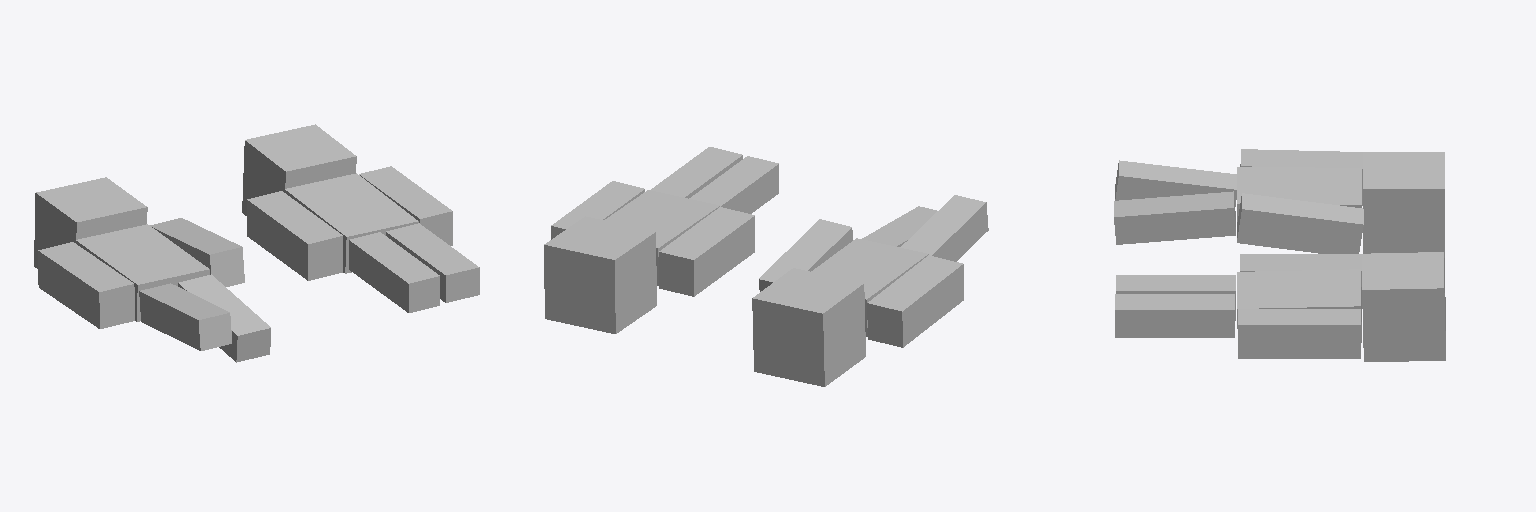
Rendered from steve_000005.obj.
3 renders of one model, left to right at view 1: azimuth 30°, elevation 25°; view 2: azimuth 150°, elevation 25°; view 3: azimuth 270°, elevation 25°, orthographic.
Parts seen in each view (by area): view 1: Cube.001_Cube.002, Cube_Cube.001; view 2: Cube_Cube.001, Cube.001_Cube.002; view 3: Cube.001_Cube.002, Cube_Cube.001.
Part boxes in pixels (left/top/right/bottom): Cube.001_Cube.002: left=242, top=124, right=479, bottom=312; Cube_Cube.001: left=34, top=177, right=270, bottom=362; Cube_Cube.001: left=752, top=195, right=988, bottom=386; Cube.001_Cube.002: left=544, top=147, right=778, bottom=333; Cube.001_Cube.002: left=1115, top=252, right=1445, bottom=361; Cube_Cube.001: left=1114, top=149, right=1444, bottom=257.
Size of the model in its own units: 6.55 by 1.37 by 5.36.